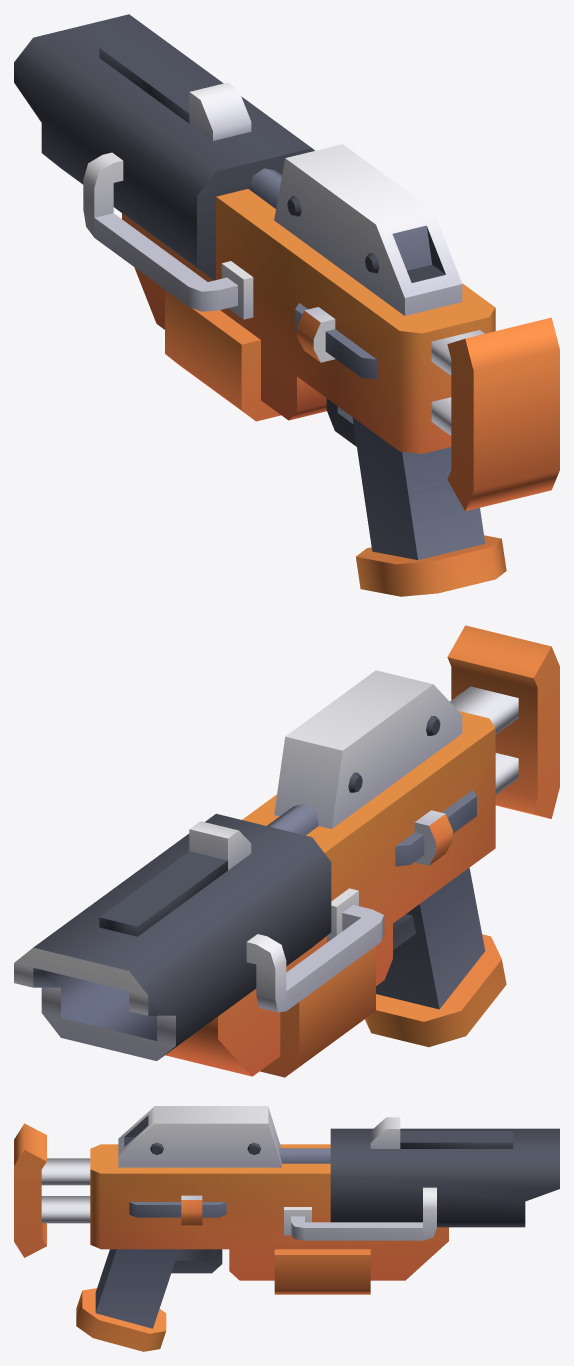
File: blaster-g.glb
3 renders of one model, top to bottom at view 1: azimuth 30°, elevation 25°; view 2: azimuth 150°, elevation 25°; view 3: azimuth 270°, elevation 25°, orthographic. The views are drawn at different scales.
Visible parts, largest first — view 1: blaster-g; view 2: blaster-g; view 3: blaster-g.
Part boxes in pixels (<box>): blaster-g: <box>14,14,559,596</box>; blaster-g: <box>14,625,559,1077</box>; blaster-g: <box>14,1106,559,1351</box>.
Size of the model in its own units: 0.2 by 0.3579 by 0.7859.
Materials: 1 (1 with a texture image).
